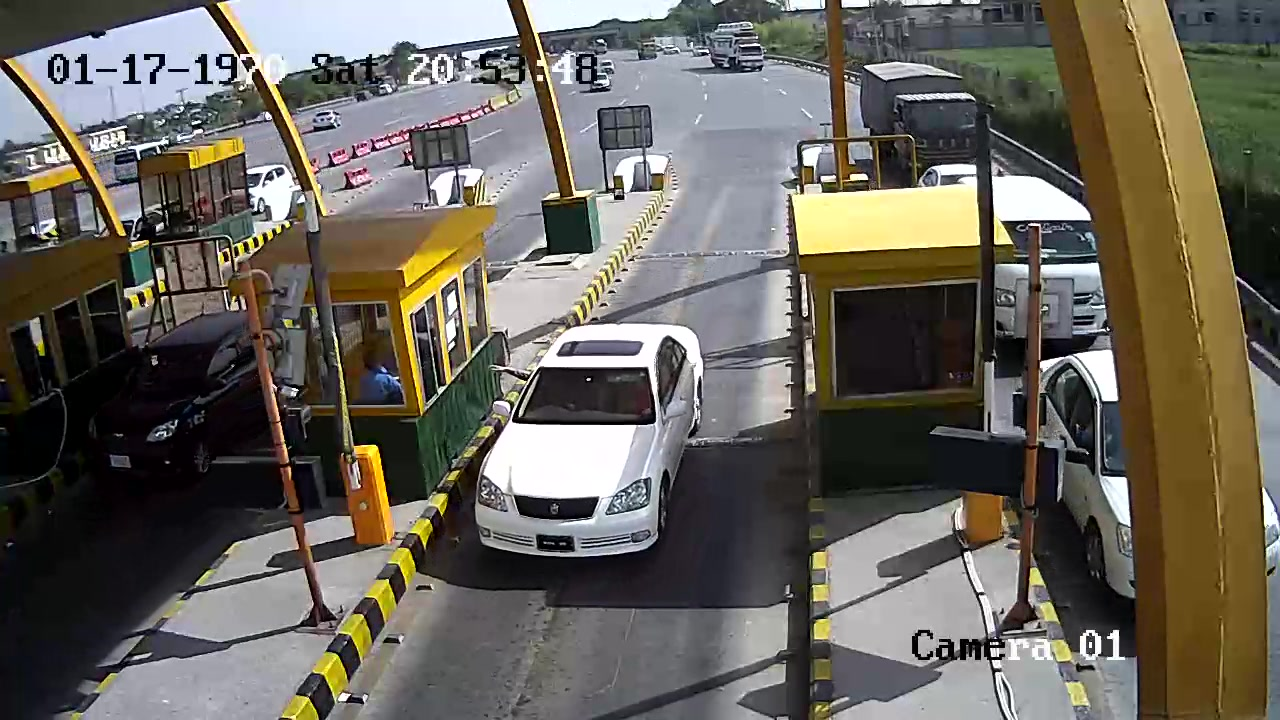F1: (466, 318, 718, 571)
